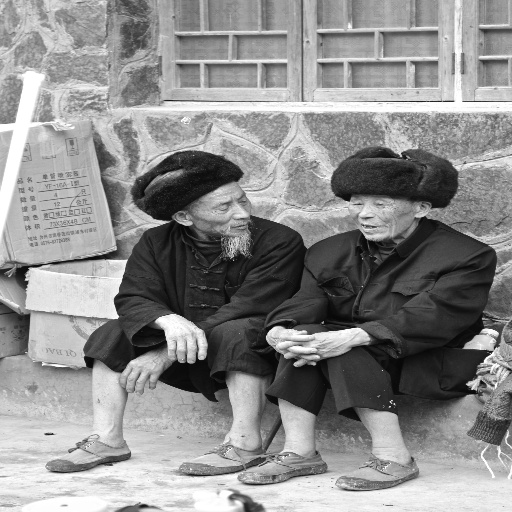hand: (114, 346, 175, 397), (277, 329, 353, 366), (155, 316, 204, 371), (263, 327, 318, 368)
